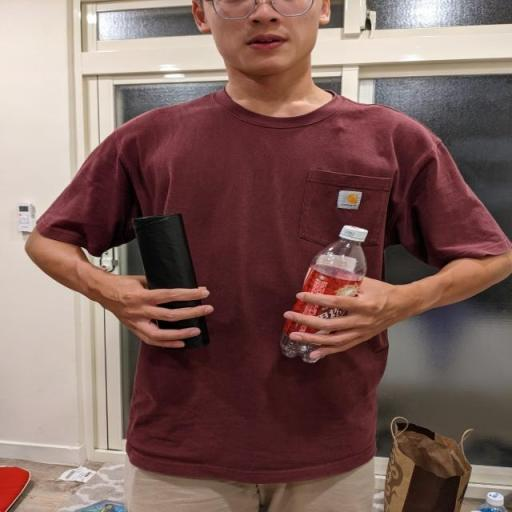plastic: (302, 226, 367, 297)
